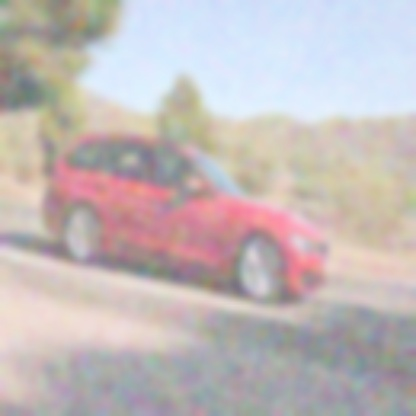Vehicle: (43, 133, 329, 306)
